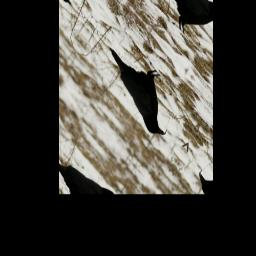Crow: (95, 29, 187, 148)
